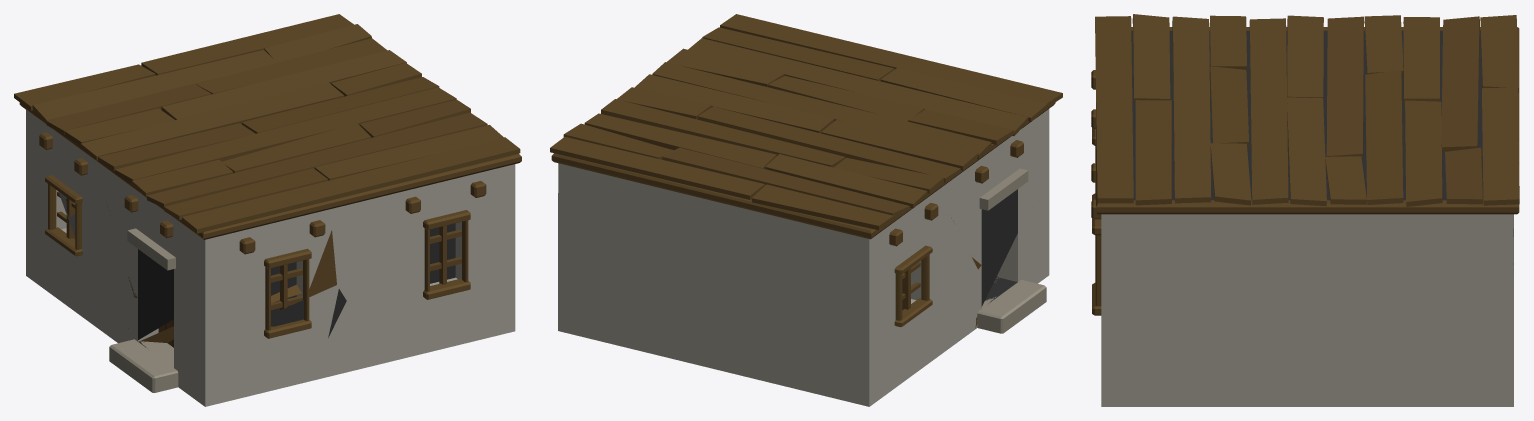
The model's file is civilian_house_39_b_root.fbx.
3 views of the same model, side by side, from view 1: azimuth 30°, elevation 25°; view 2: azimuth 150°, elevation 25°; view 3: azimuth 270°, elevation 25° (orthographic). The views are drawn at different scales.
Parts seen in each view (by area): view 1: civilian_house_39_b_sh_13, civilian_house_39_b_sh_9, civilian_house_39_b_sh_10, civilian_house_39_b_sh_11, civilian_house_39_b_sh_4, civilian_house_39_b_sh_3, civilian_house_39_b_sh_14, civilian_house_39_b_sh_2, civilian_house_39_b_sh_6, civilian_house_39_b_sh_18, civilian_house_39_b_sh_15, civilian_house_39_b_sh_5 (+3 smaller); view 2: civilian_house_39_b_sh_15, civilian_house_39_b_sh_12, civilian_house_39_b_sh_20, civilian_house_39_b_sh_17, civilian_house_39_b_sh_3, civilian_house_39_b_sh_4, civilian_house_39_b_sh_10, civilian_house_39_b_sh_14, civilian_house_39_b_sh_2, civilian_house_39_b_sh_19, civilian_house_39_b_sh_7, civilian_house_39_b_sh_9 (+5 smaller); view 3: civilian_house_39_b_sh_7, civilian_house_39_b_sh_8, civilian_house_39_b_sh_13, civilian_house_39_b_sh_10, civilian_house_39_b_sh_3, civilian_house_39_b_sh_16, civilian_house_39_b_sh_2, civilian_house_39_b_sh_15, civilian_house_39_b_sh_14, civilian_house_39_b_sh_9, civilian_house_39_b_sh_4, civilian_house_39_b_sh_20 (+1 smaller).
Part boxes in pixels (x1=…): civilian_house_39_b_sh_13: x1=337, y1=104, x2=521, y2=336; civilian_house_39_b_sh_9: x1=176, y1=169, x2=336, y2=329; civilian_house_39_b_sh_10: x1=264, y1=105, x2=455, y2=283; civilian_house_39_b_sh_11: x1=110, y1=312, x2=324, y2=406; civilian_house_39_b_sh_4: x1=98, y1=140, x2=230, y2=303; civilian_house_39_b_sh_3: x1=251, y1=22, x2=456, y2=110; civilian_house_39_b_sh_14: x1=33, y1=86, x2=175, y2=201; civilian_house_39_b_sh_2: x1=149, y1=99, x2=309, y2=173; civilian_house_39_b_sh_6: x1=324, y1=301, x2=492, y2=377; civilian_house_39_b_sh_18: x1=36, y1=187, x2=134, y2=349; civilian_house_39_b_sh_15: x1=121, y1=33, x2=261, y2=100; civilian_house_39_b_sh_5: x1=130, y1=284, x2=346, y2=345; civilian_house_39_b_sh_15: x1=597, y1=139, x2=803, y2=269; civilian_house_39_b_sh_12: x1=569, y1=253, x2=745, y2=376; civilian_house_39_b_sh_20: x1=769, y1=186, x2=900, y2=351; civilian_house_39_b_sh_17: x1=721, y1=161, x2=834, y2=391; civilian_house_39_b_sh_3: x1=583, y1=58, x2=768, y2=246; civilian_house_39_b_sh_4: x1=902, y1=106, x2=1044, y2=269; civilian_house_39_b_sh_10: x1=680, y1=46, x2=925, y2=111; civilian_house_39_b_sh_14: x1=801, y1=156, x2=960, y2=278; civilian_house_39_b_sh_2: x1=762, y1=99, x2=927, y2=164; civilian_house_39_b_sh_19: x1=809, y1=308, x2=1005, y2=406; civilian_house_39_b_sh_7: x1=550, y1=55, x2=678, y2=295; civilian_house_39_b_sh_9: x1=905, y1=60, x2=1062, y2=208; civilian_house_39_b_sh_7: x1=1233, y1=180, x2=1519, y2=365; civilian_house_39_b_sh_8: x1=1129, y1=221, x2=1402, y2=406; civilian_house_39_b_sh_13: x1=1091, y1=123, x2=1238, y2=406; civilian_house_39_b_sh_10: x1=1096, y1=80, x2=1310, y2=194; civilian_house_39_b_sh_3: x1=1236, y1=115, x2=1519, y2=201; civilian_house_39_b_sh_16: x1=1308, y1=320, x2=1513, y2=406; civilian_house_39_b_sh_2: x1=1198, y1=49, x2=1406, y2=133; civilian_house_39_b_sh_15: x1=1371, y1=76, x2=1519, y2=264; civilian_house_39_b_sh_14: x1=1326, y1=15, x2=1477, y2=83; civilian_house_39_b_sh_9: x1=1091, y1=14, x2=1209, y2=195; civilian_house_39_b_sh_4: x1=1139, y1=14, x2=1334, y2=68; civilian_house_39_b_sh_20: x1=1467, y1=15, x2=1519, y2=84.
Size of the model in its own units: 3321 by 1712 by 3117.
